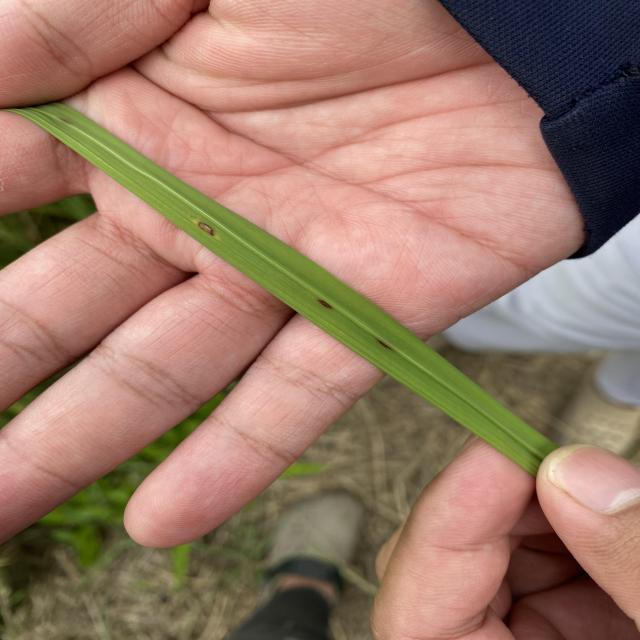Dom nau: (196, 220, 215, 238), (375, 337, 394, 350), (315, 299, 334, 310)
